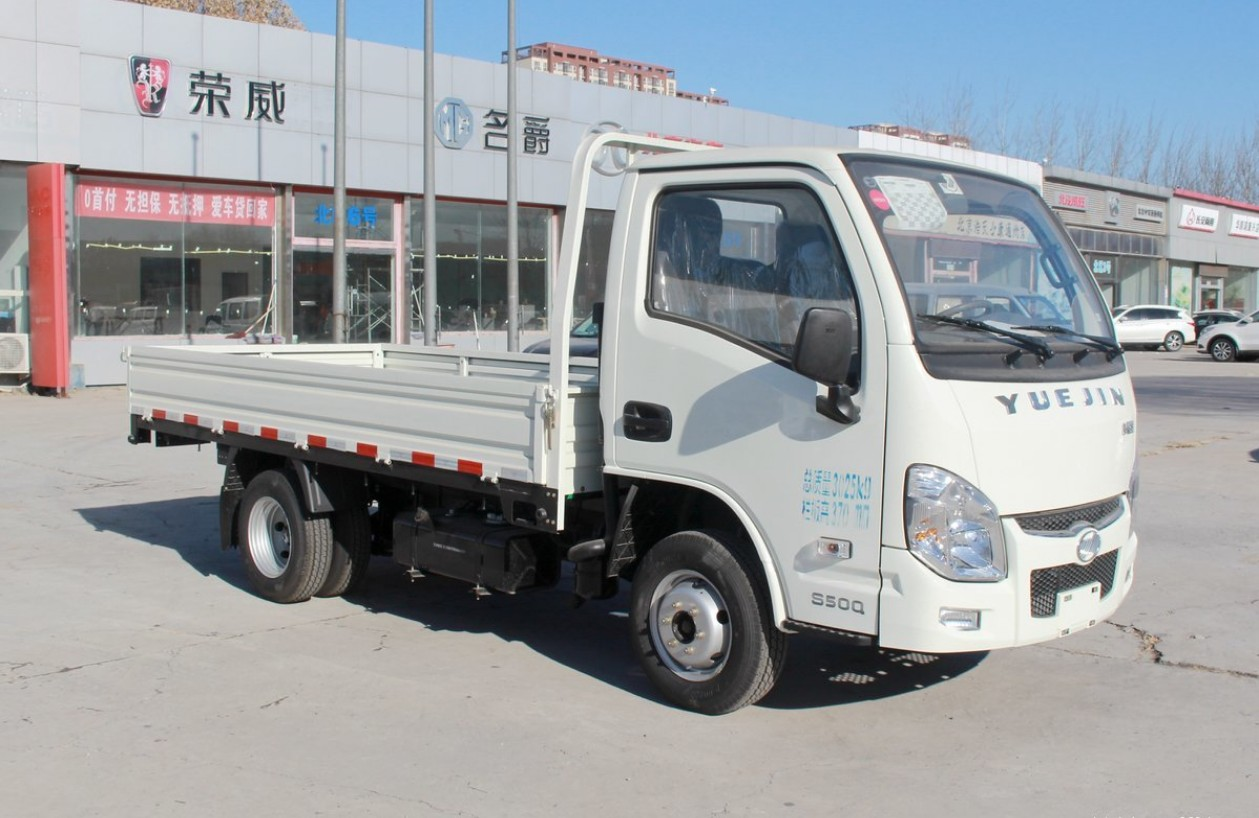truck: (122, 131, 1144, 721)
